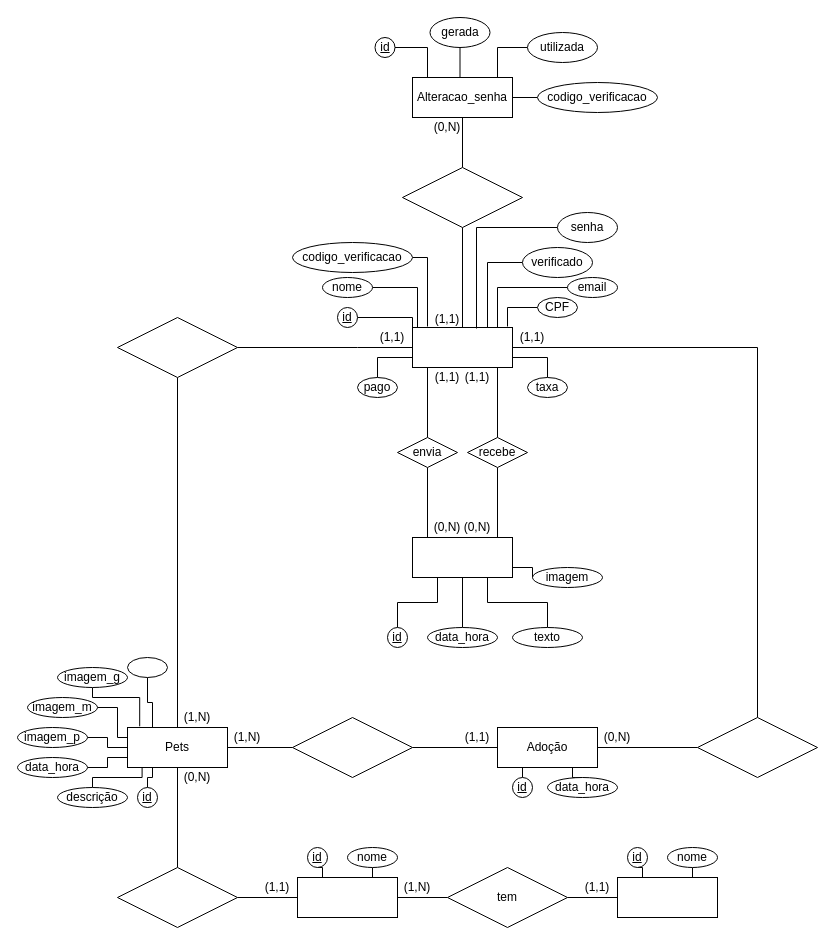
Image size: 835x945. Some labels were removed from this diagram. Each missing label, with the box of its shape:
adota: (292, 716, 412, 778)
altera: (402, 166, 522, 228)
classifica: (116, 866, 238, 928)
efetua: (696, 716, 818, 778)
Espécie: (616, 876, 718, 918)
Mesagem: (412, 536, 512, 578)
Raça: (296, 876, 398, 918)
registra: (116, 316, 238, 378)
título: (126, 656, 168, 678)
Usuario: (412, 326, 512, 368)
